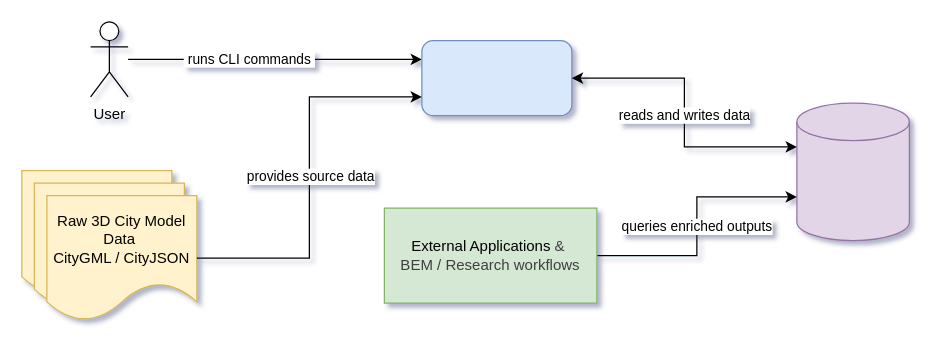
Some shapes in this 939 by 350 pixel diagram are drawn without their labels. The box of each missing label's shape, as (x1, y1, x2, y2) in pixels:
City2TABULA: (421, 39, 572, 116)
PostgreSQL + PostGIS: (796, 102, 909, 241)
